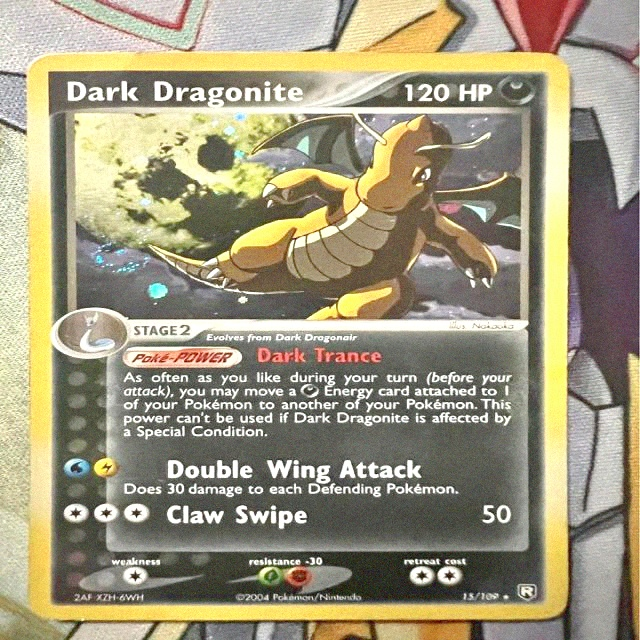card: (26, 49, 572, 625)
